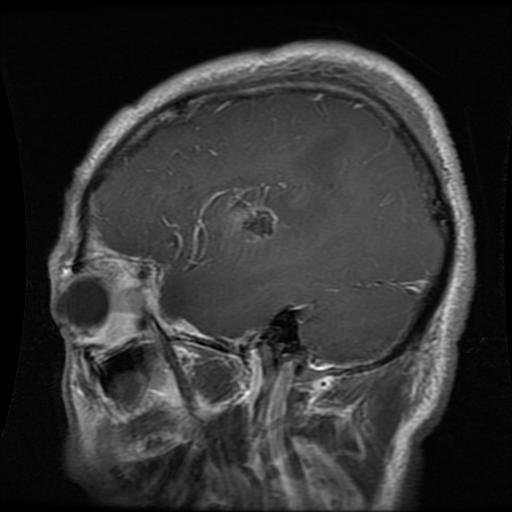Gliomia_tumour: (237, 208, 276, 237)
